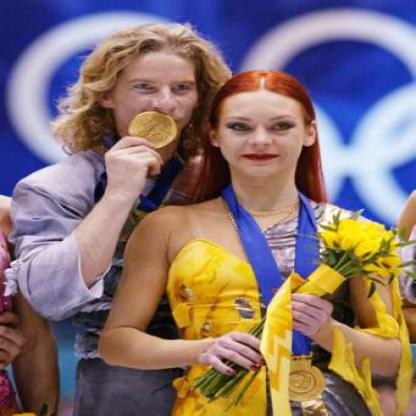face: (115, 33, 204, 144), (221, 76, 307, 181)
